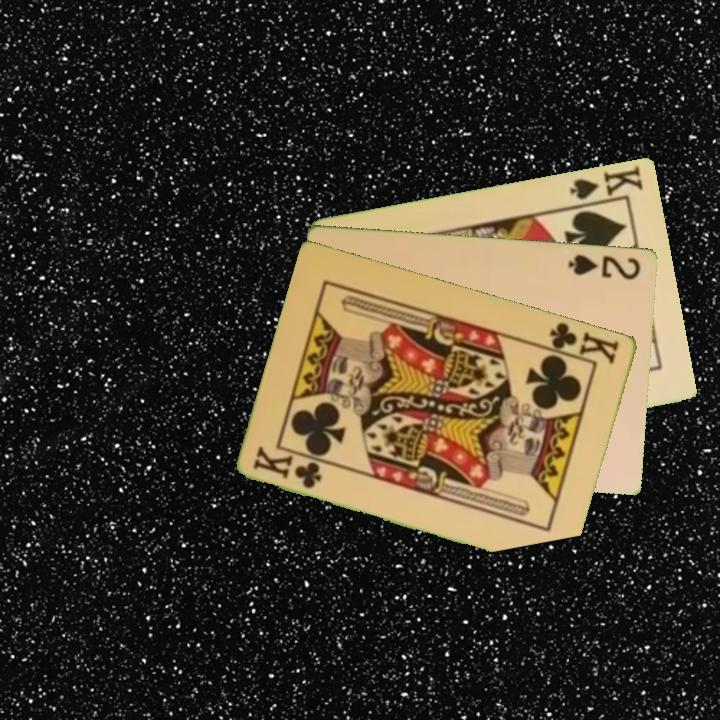2s: (565, 250, 643, 282)
Kc: (540, 318, 623, 367), (250, 443, 325, 491)
Ks: (566, 161, 647, 209)
